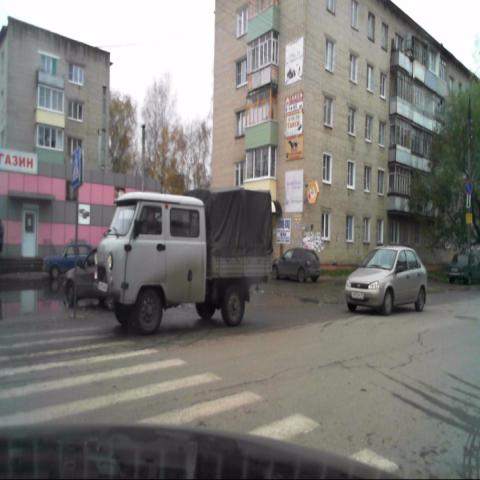5_19_1: (71, 145, 81, 188)
